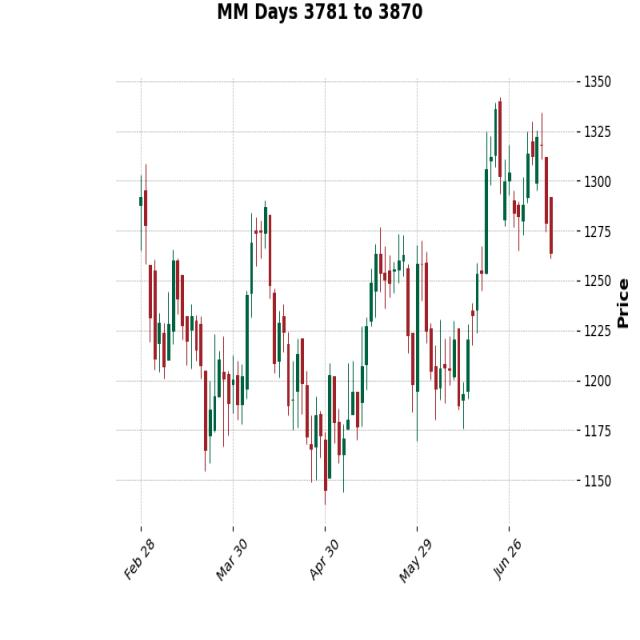Triple Bottom Reversal: (146, 304, 388, 502)
